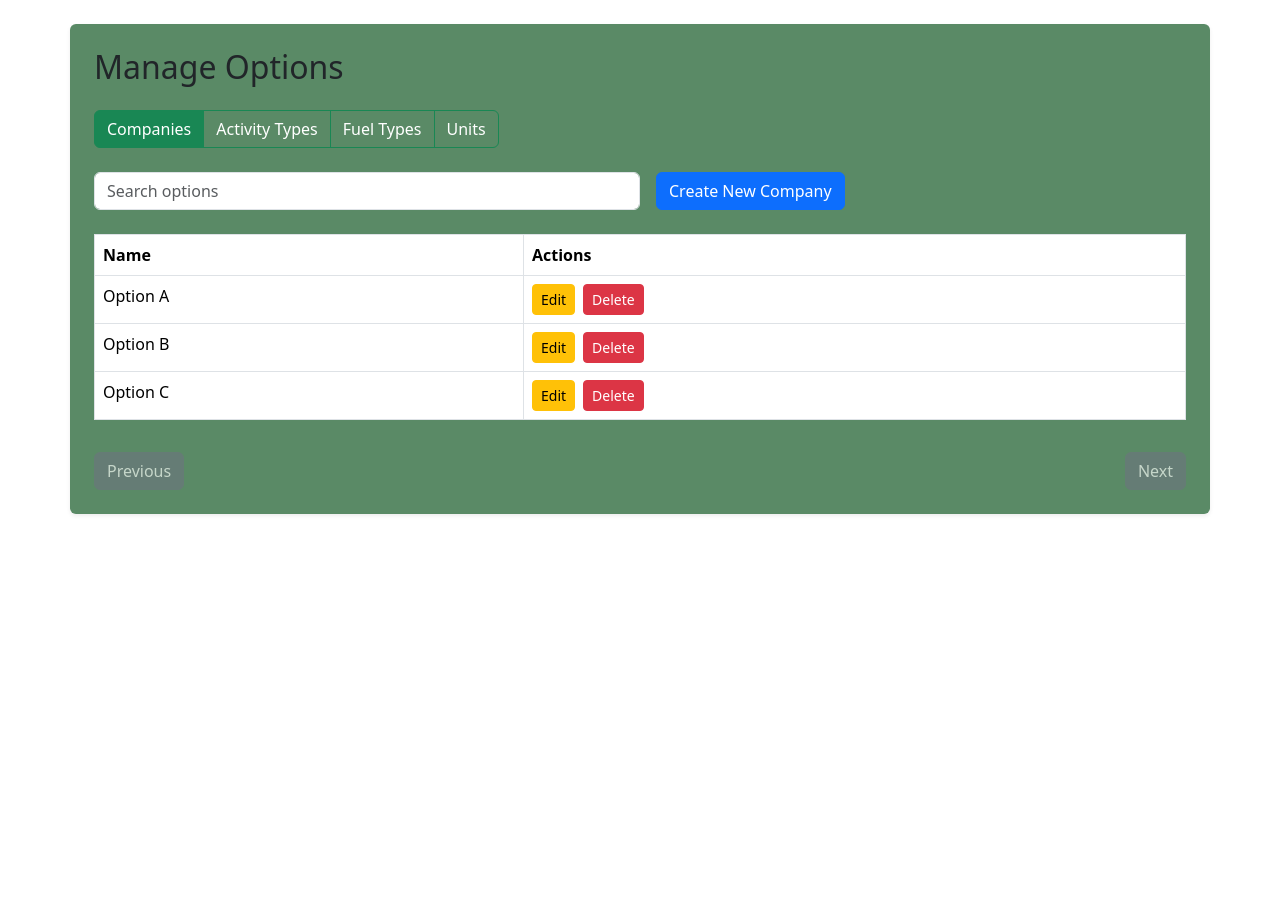
ManageOptions Component › opens form to edit an existing option
This screenshot has width=1280, height=900.
Click the button "Edit" in the row of "Option A" at (554, 300), box [532,284,575,315]
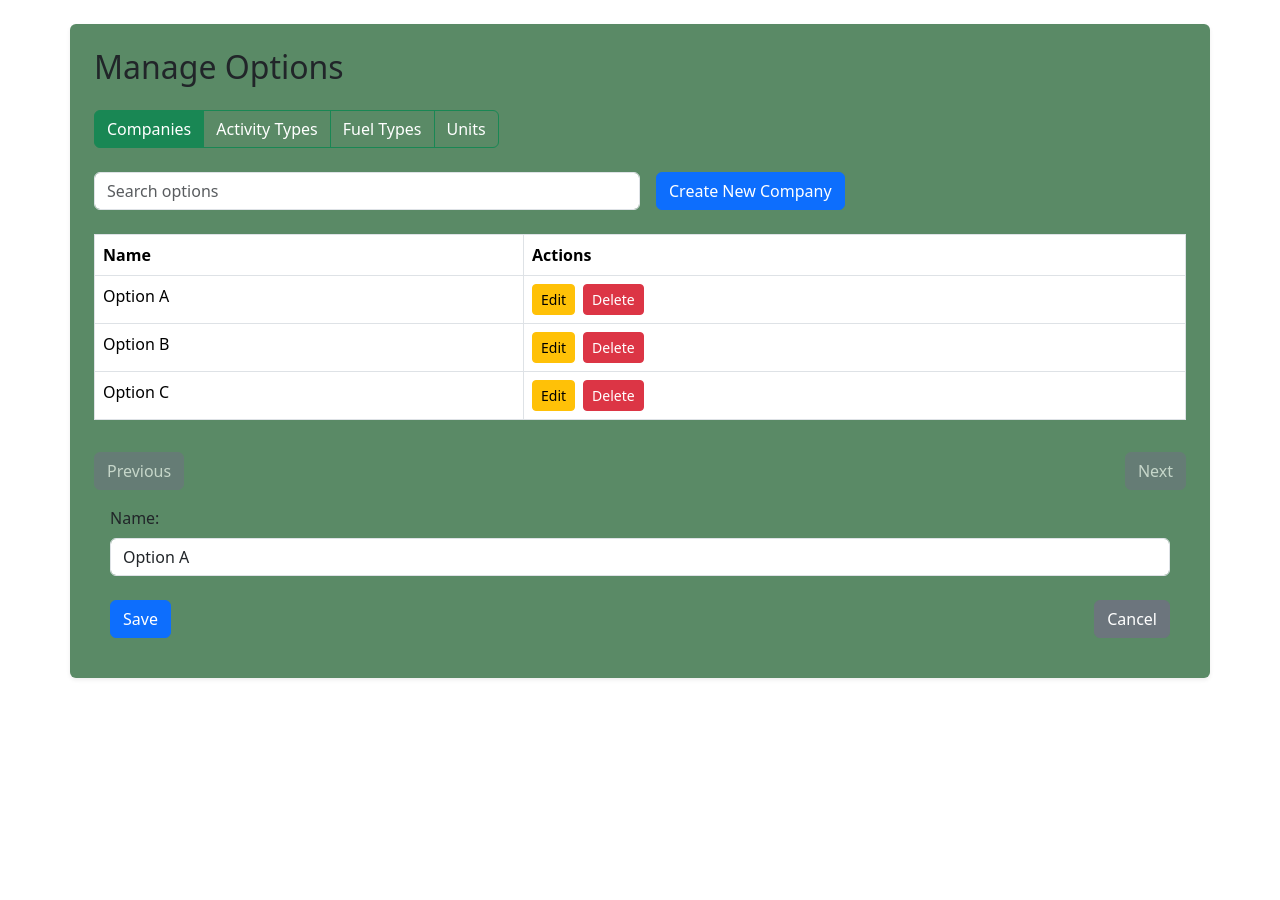
Check: the field labelled "Name:" holds "Option A", box [110,538,1170,576]
